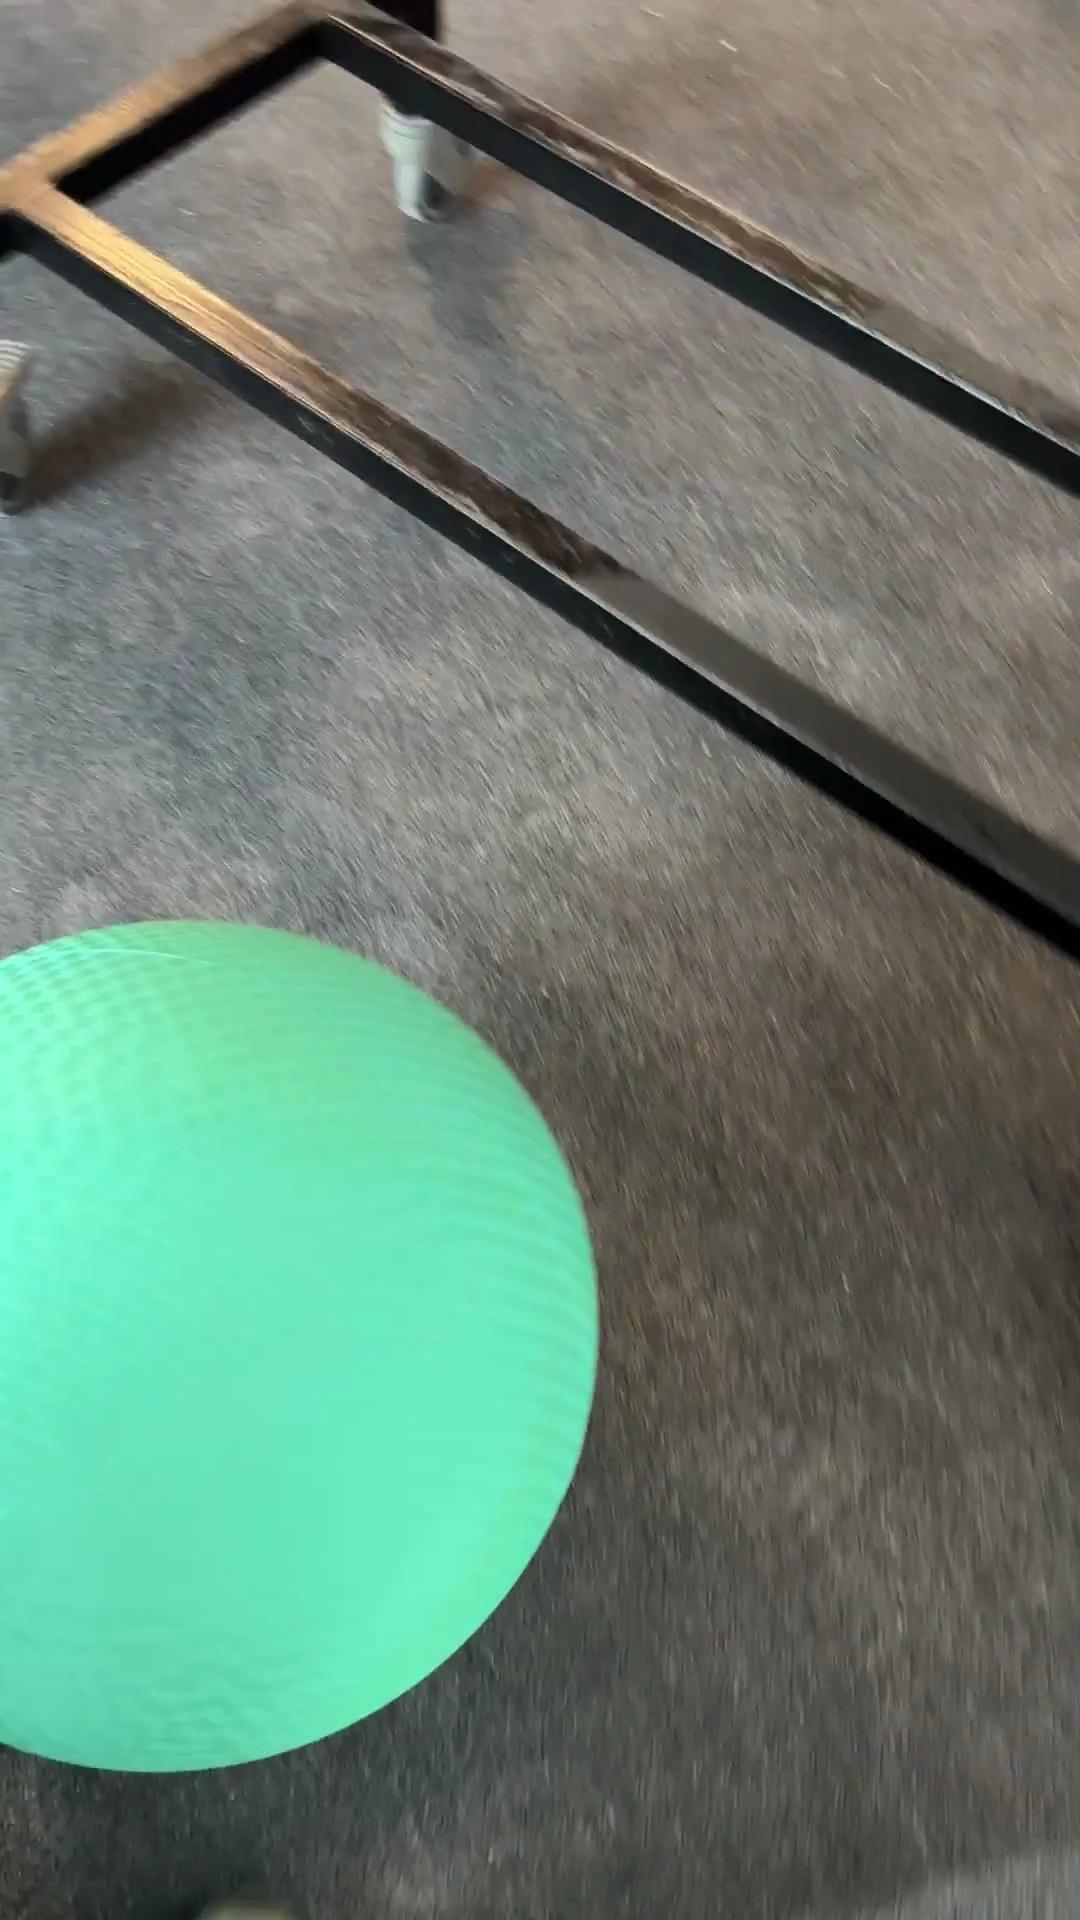ALGAE: (1, 915, 601, 1774)
